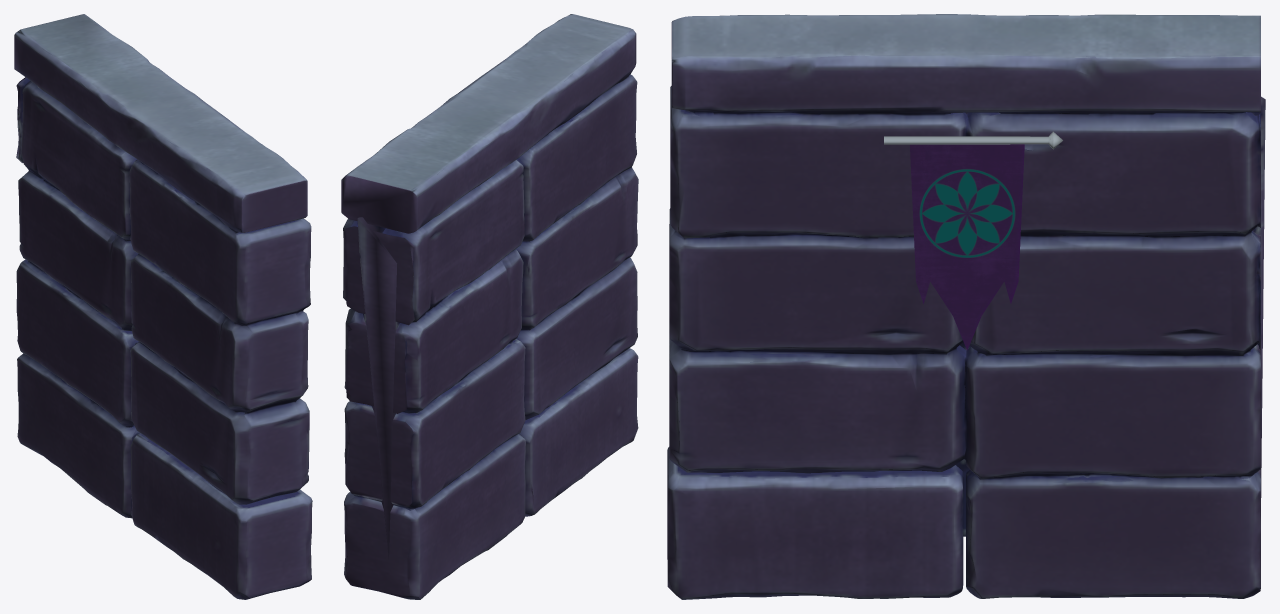
File: WallBanner1.glb
3 views of the same model, side by side, from view 1: azimuth 30°, elevation 25°; view 2: azimuth 150°, elevation 25°; view 3: azimuth 270°, elevation 25° (orthographic). The views are drawn at different scales.
Visible parts, largest first — view 1: WallBanner1; view 2: WallBanner1; view 3: WallBanner1.
Boxes of the visible parts, <box> form: WallBanner1: <box>14,14,312,599</box>; WallBanner1: <box>341,14,638,599</box>; WallBanner1: <box>667,14,1265,599</box>.
Size of the model in its own units: 2.44 by 10 by 10.
2 materials, 2 textured.
